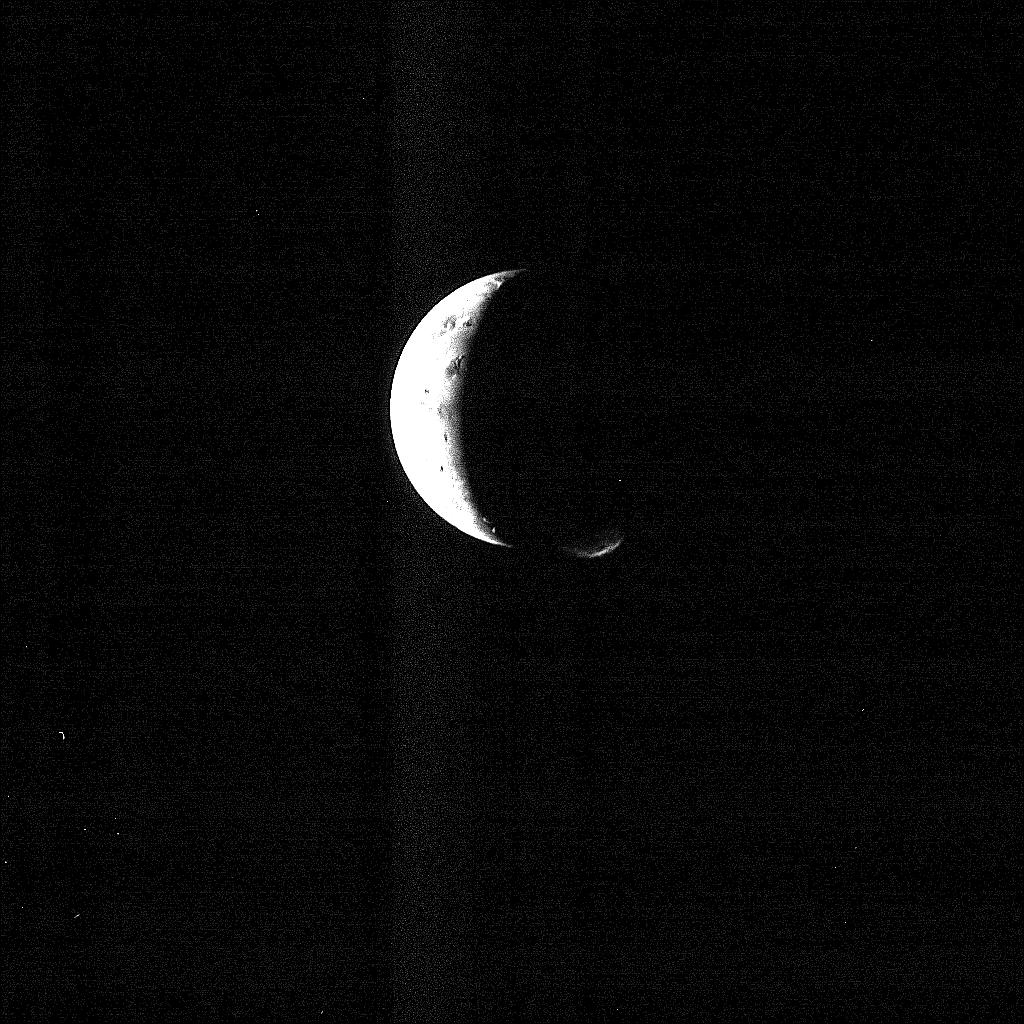plumes: (565, 534, 624, 560)
